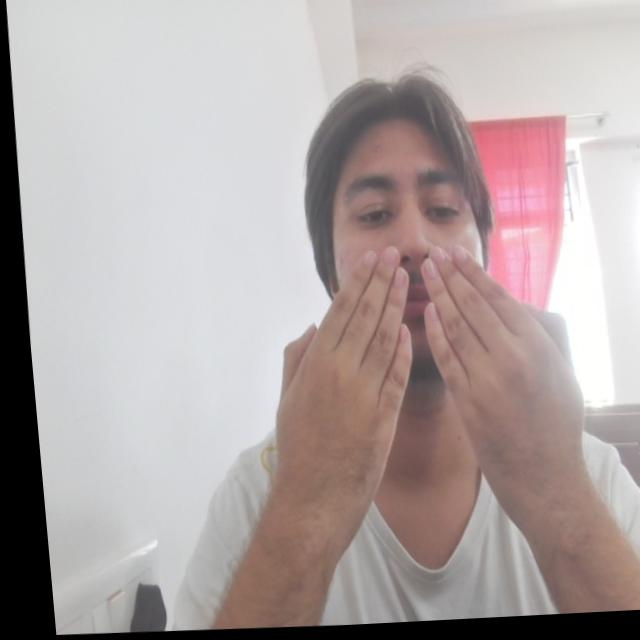thankyou: (249, 241, 590, 531)
